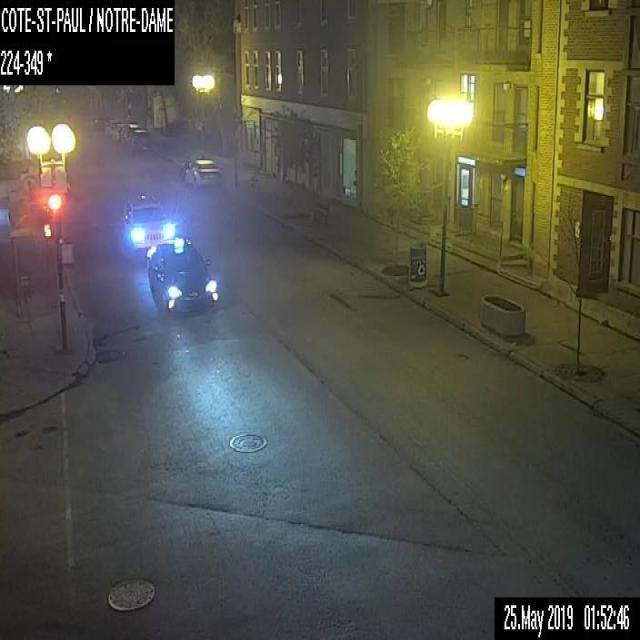vehicle: (146, 235, 216, 320), (122, 192, 174, 253), (183, 158, 220, 188), (128, 129, 150, 152)
